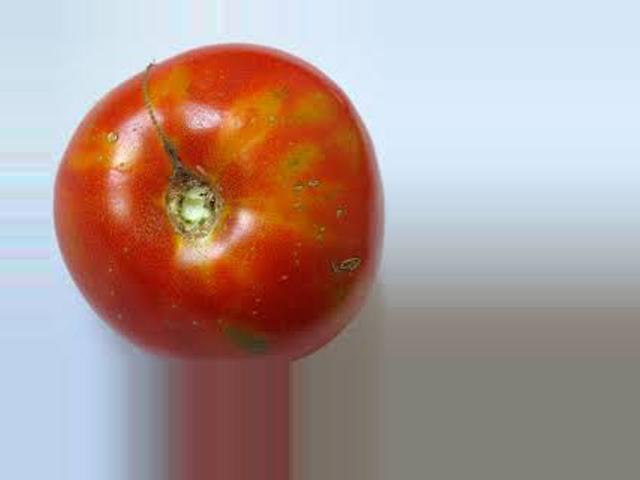tomato: (52, 44, 382, 362)
